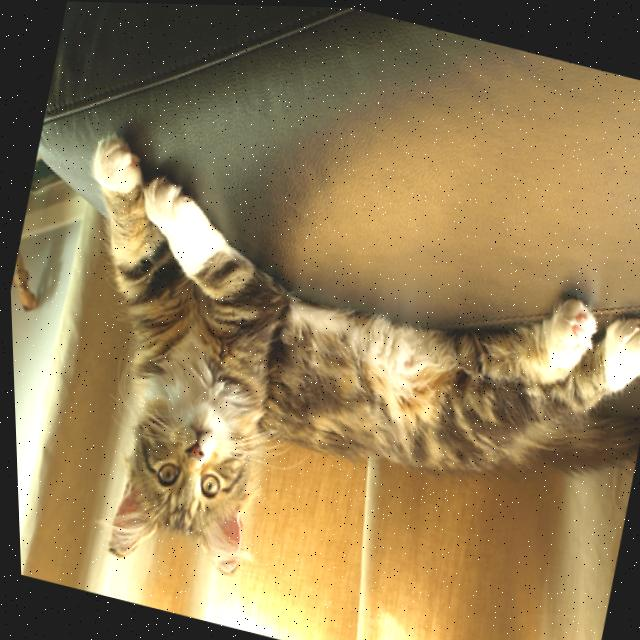Maine Coon: (4, 125, 640, 640)
